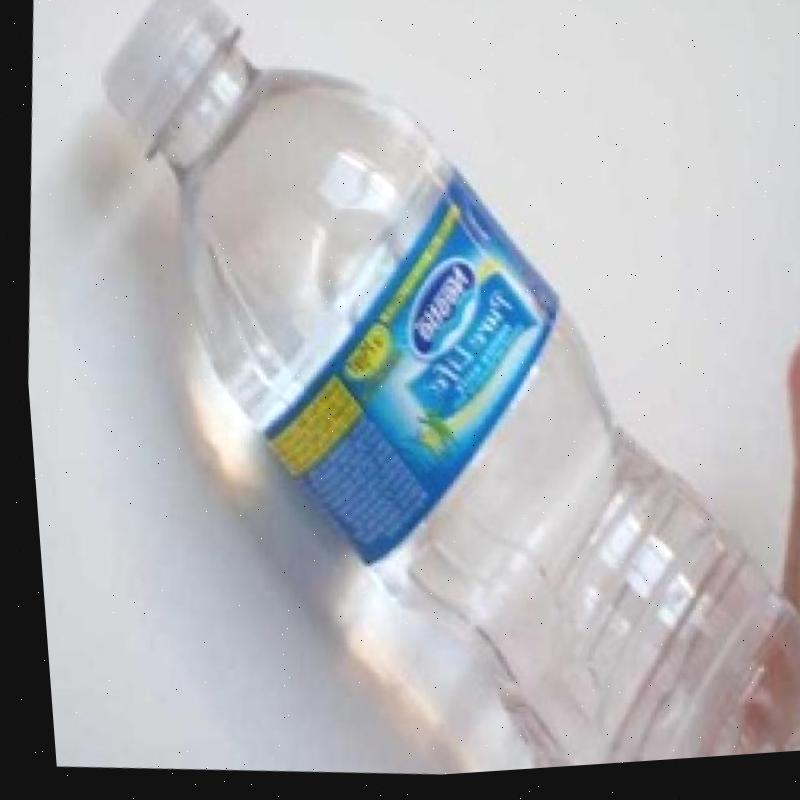botella: (33, 0, 800, 798)
